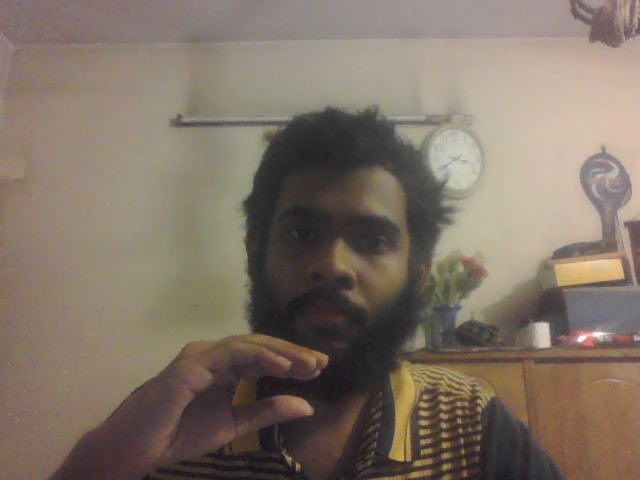No: (115, 332, 326, 457)
